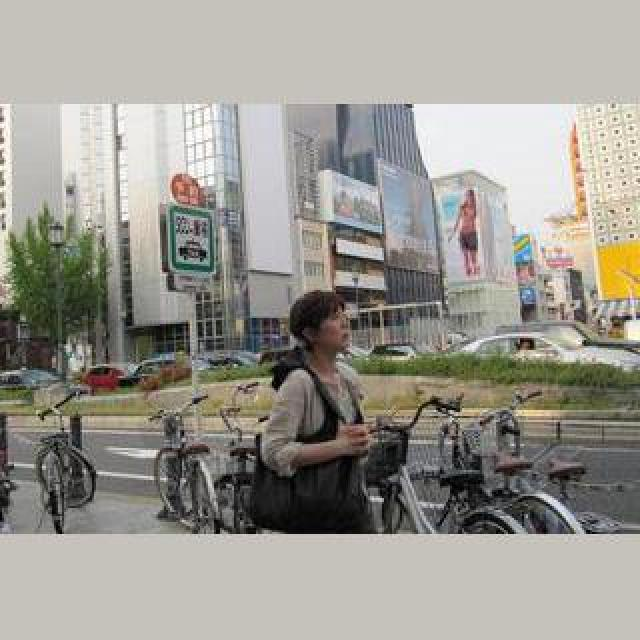MC-Bike: (258, 290, 374, 532), (454, 190, 480, 278)
Person: (394, 386, 602, 532), (140, 394, 230, 532), (34, 400, 98, 530)
